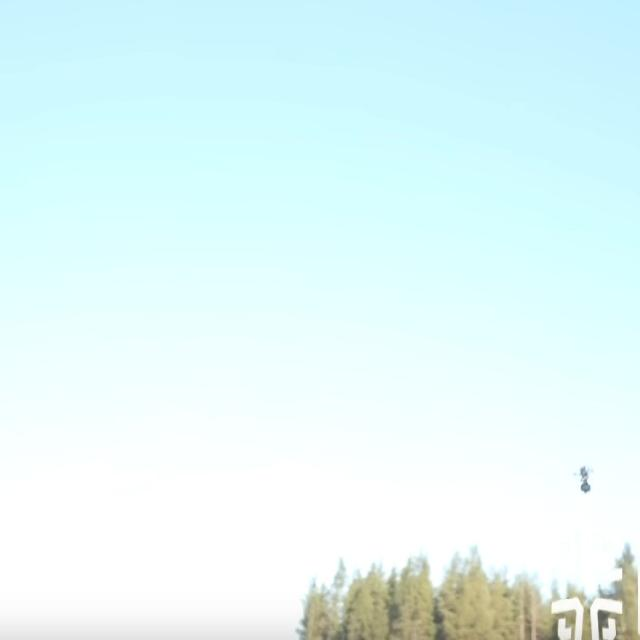drone: (570, 461, 599, 497)
